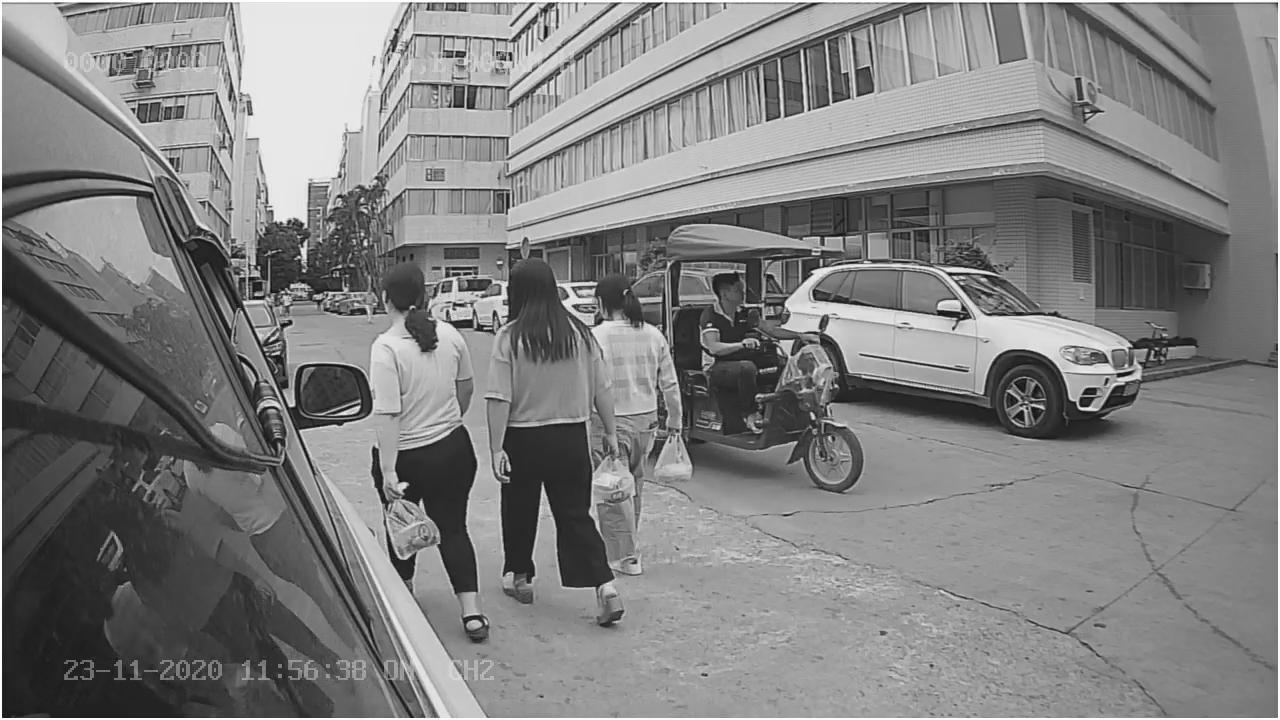person: (481, 259, 628, 628), (362, 259, 494, 646), (699, 270, 769, 351)
